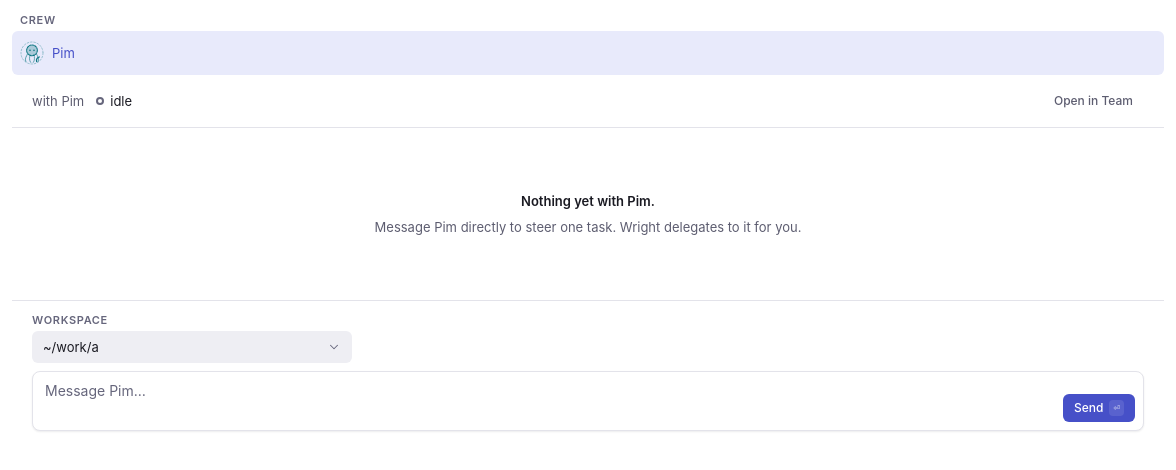
it: composer › refusal keeps the typed text
Step 1. Type "Look at ~/work/b" into the text box labelled "Message Pim" → point(550, 401), box x1=45 y1=380 x2=1055 y2=422
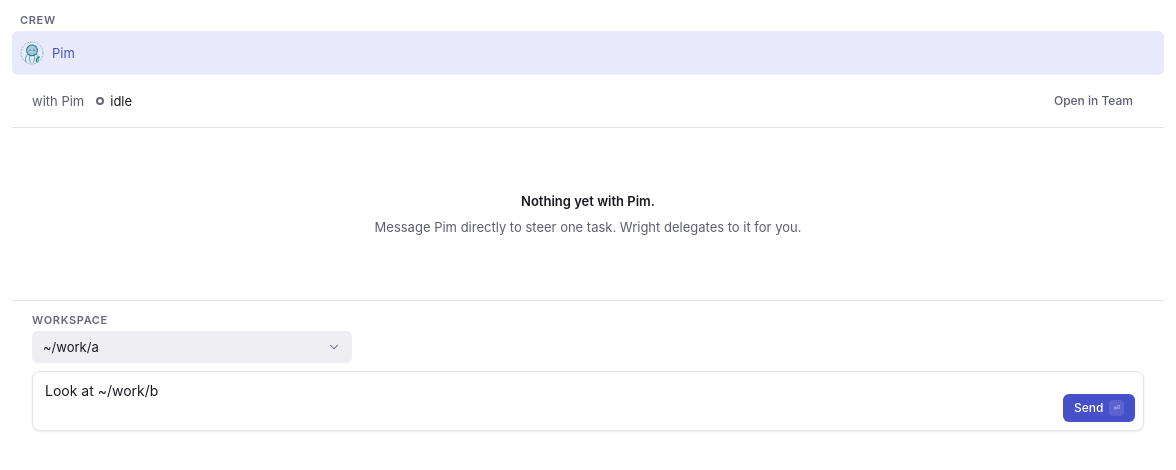
Step 2. Click the button "Send ⏎" → point(1099, 408), box x1=1063 y1=394 x2=1135 y2=422
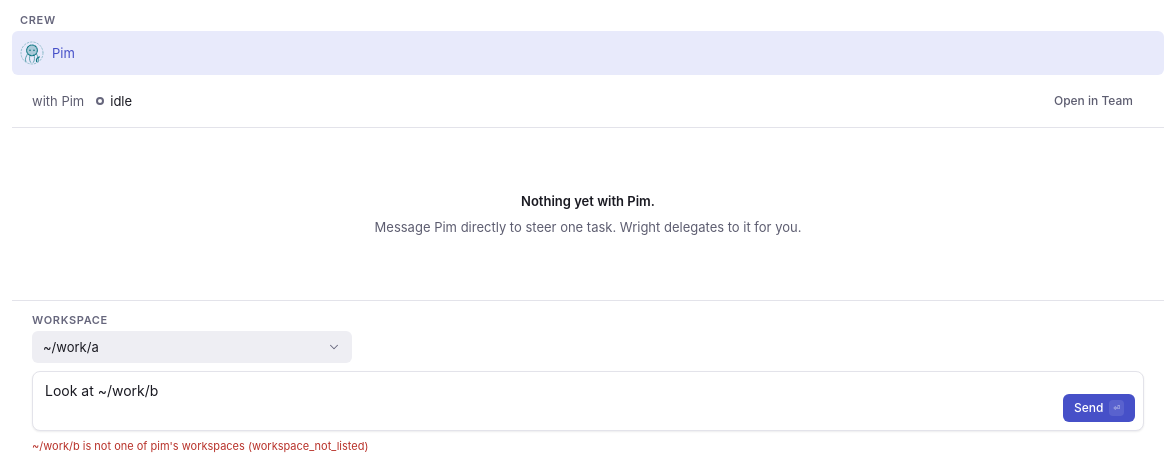
Now the message shows "workspace_not_listed", box x1=32 y1=439 x2=368 y2=453
Now the message shows "is not one of pim's workspaces", box x1=32 y1=439 x2=368 y2=453
